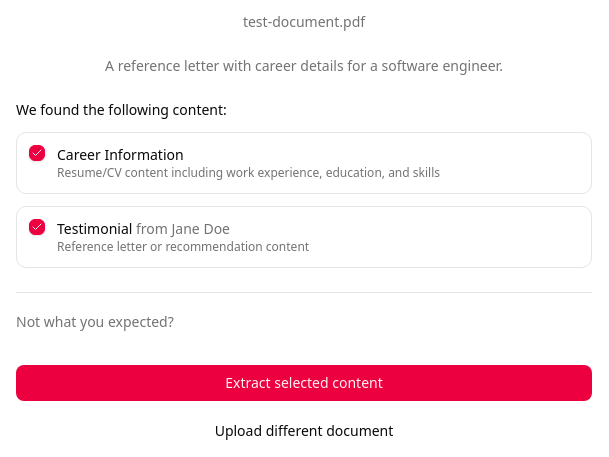
Test case: DetectionResults › Proceed button › is disabled when nothing is selected
This screenshot has width=609, height=457.
# Uncheck both
Click the checkbox named "career information": point(37, 153) top-left (29, 145), bottom-right (45, 161)
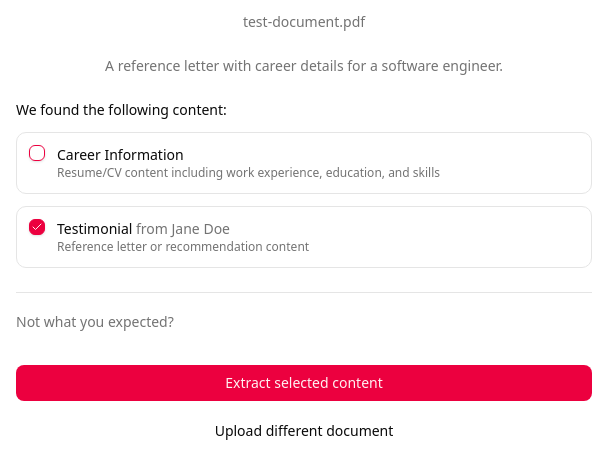
Click the checkbox named "testimonial": point(37, 227) top-left (29, 219), bottom-right (45, 235)
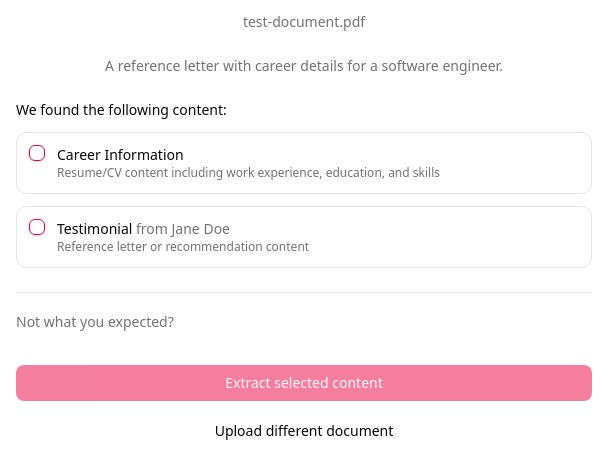
Result: the button "Extract selected content" is disabled at top-left (16, 365), bottom-right (592, 401)
